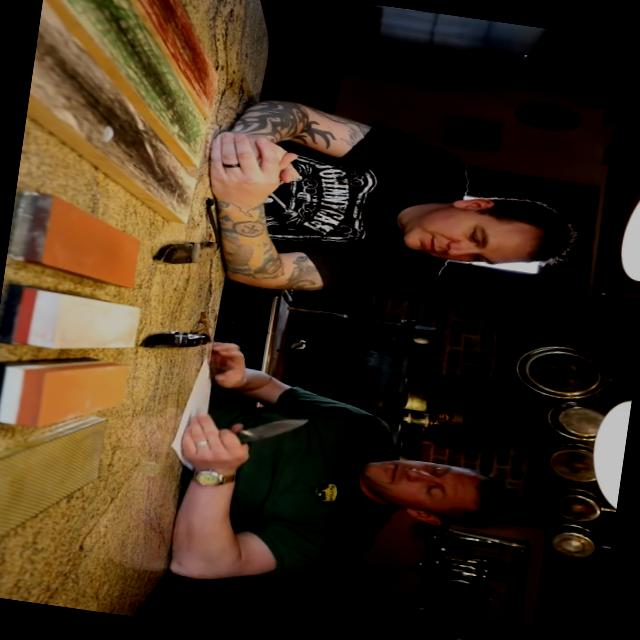knife: (182, 395, 324, 480)
